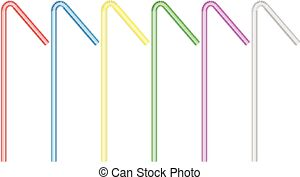Drinking Straw: (98, 1, 150, 163), (199, 1, 251, 163)
